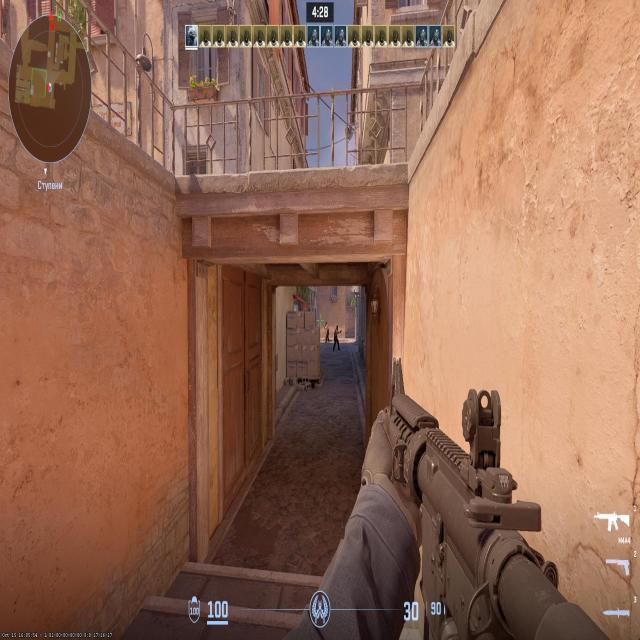T: (334, 326, 338, 351)
T_heat: (336, 328, 338, 332)
